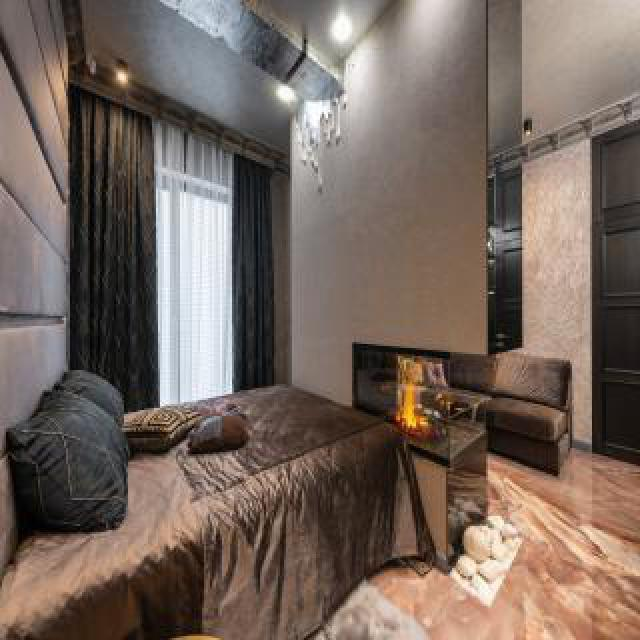Fire: (392, 374, 432, 436)
